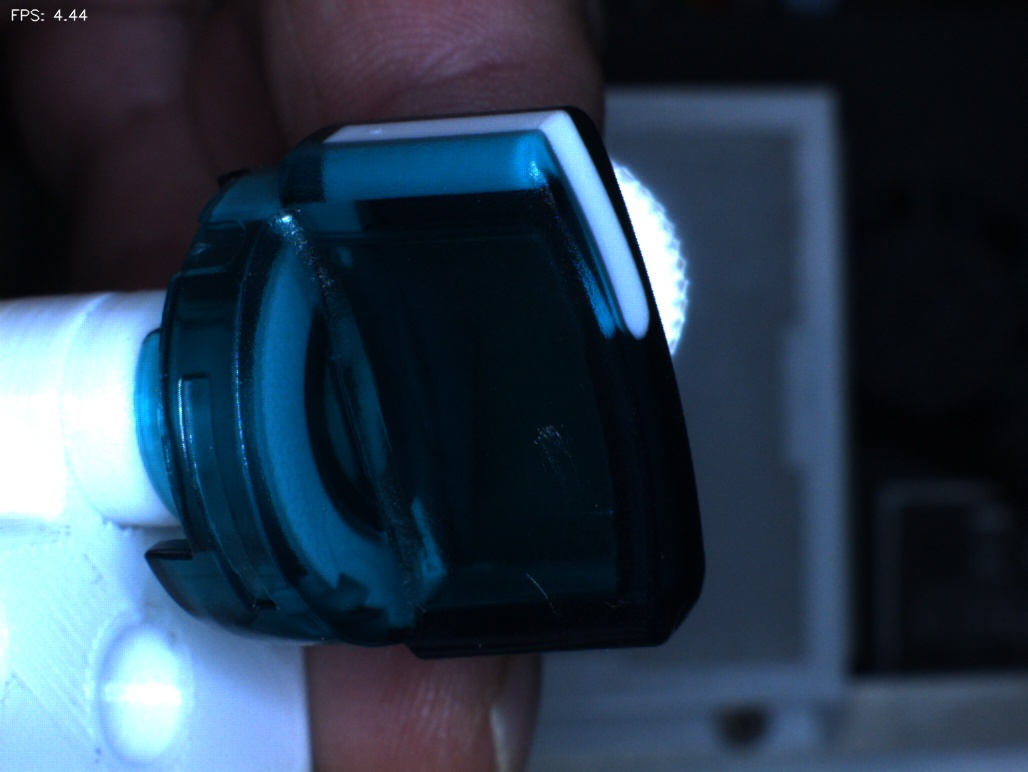Givrage: (512, 418, 600, 639)
